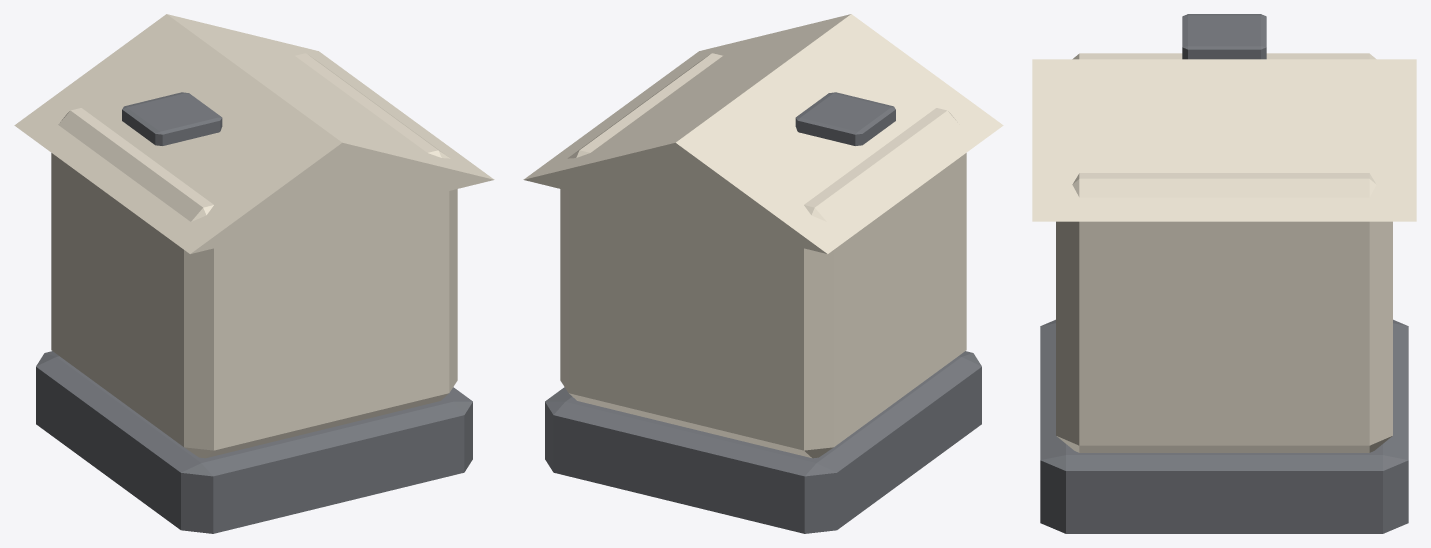
Rendered from b10_square_cafe_umbrella_table.glb.
3 renders of one model, left to right at view 1: azimuth 30°, elevation 25°; view 2: azimuth 150°, elevation 25°; view 3: azimuth 270°, elevation 25°, orthographic. The views are drawn at different scales.
Visible parts, largest first — view 1: b10_square_cafe_umbrella_table; view 2: b10_square_cafe_umbrella_table; view 3: b10_square_cafe_umbrella_table.
Boxes of the visible parts, left/top/right/bottom form: b10_square_cafe_umbrella_table: left=14, top=14, right=494, bottom=533; b10_square_cafe_umbrella_table: left=523, top=14, right=1003, bottom=533; b10_square_cafe_umbrella_table: left=1032, top=14, right=1416, bottom=533.
Size of the model in its own units: 2.05 by 2.37 by 2.05.
